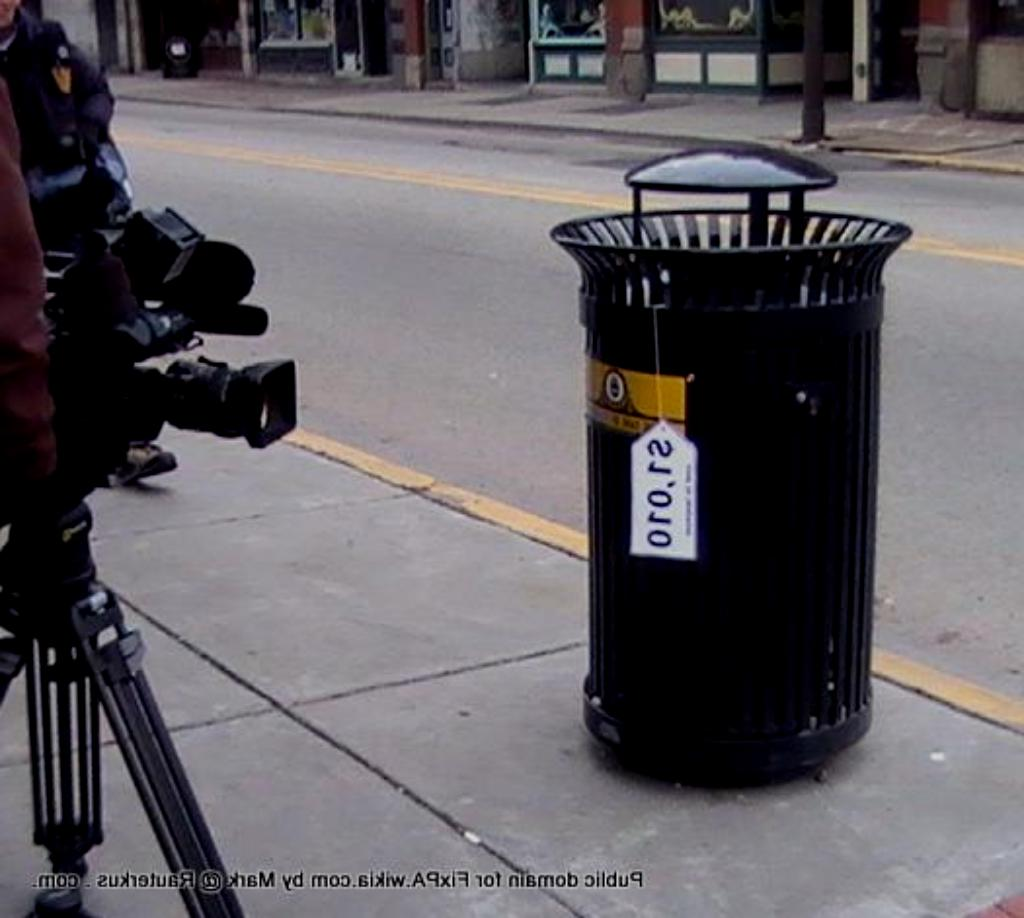dustbin: (528, 138, 926, 812)
